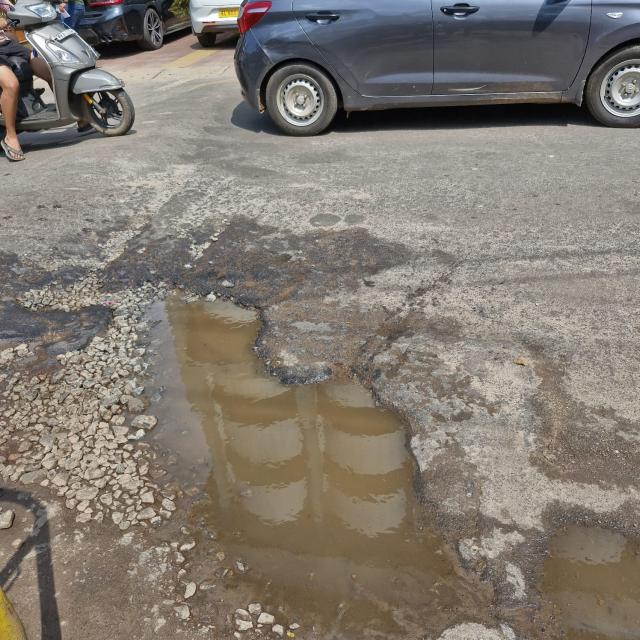pothole: (0, 261, 496, 640), (505, 314, 638, 491), (511, 493, 640, 640)
